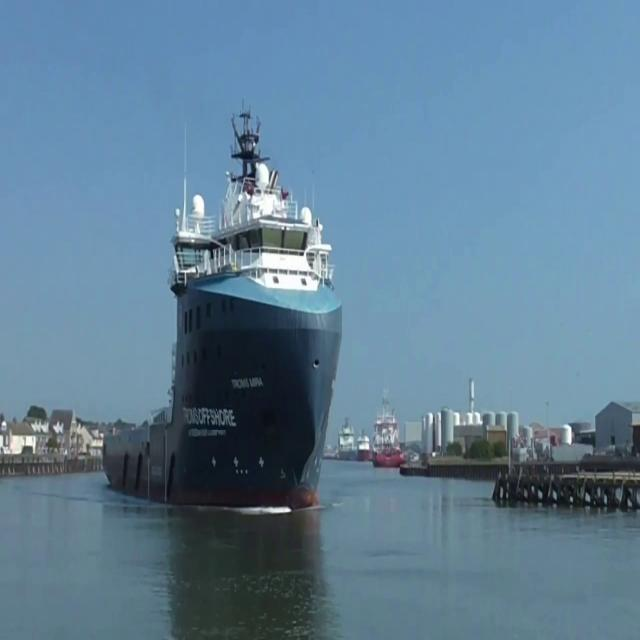OCR: (180, 394, 238, 430)
